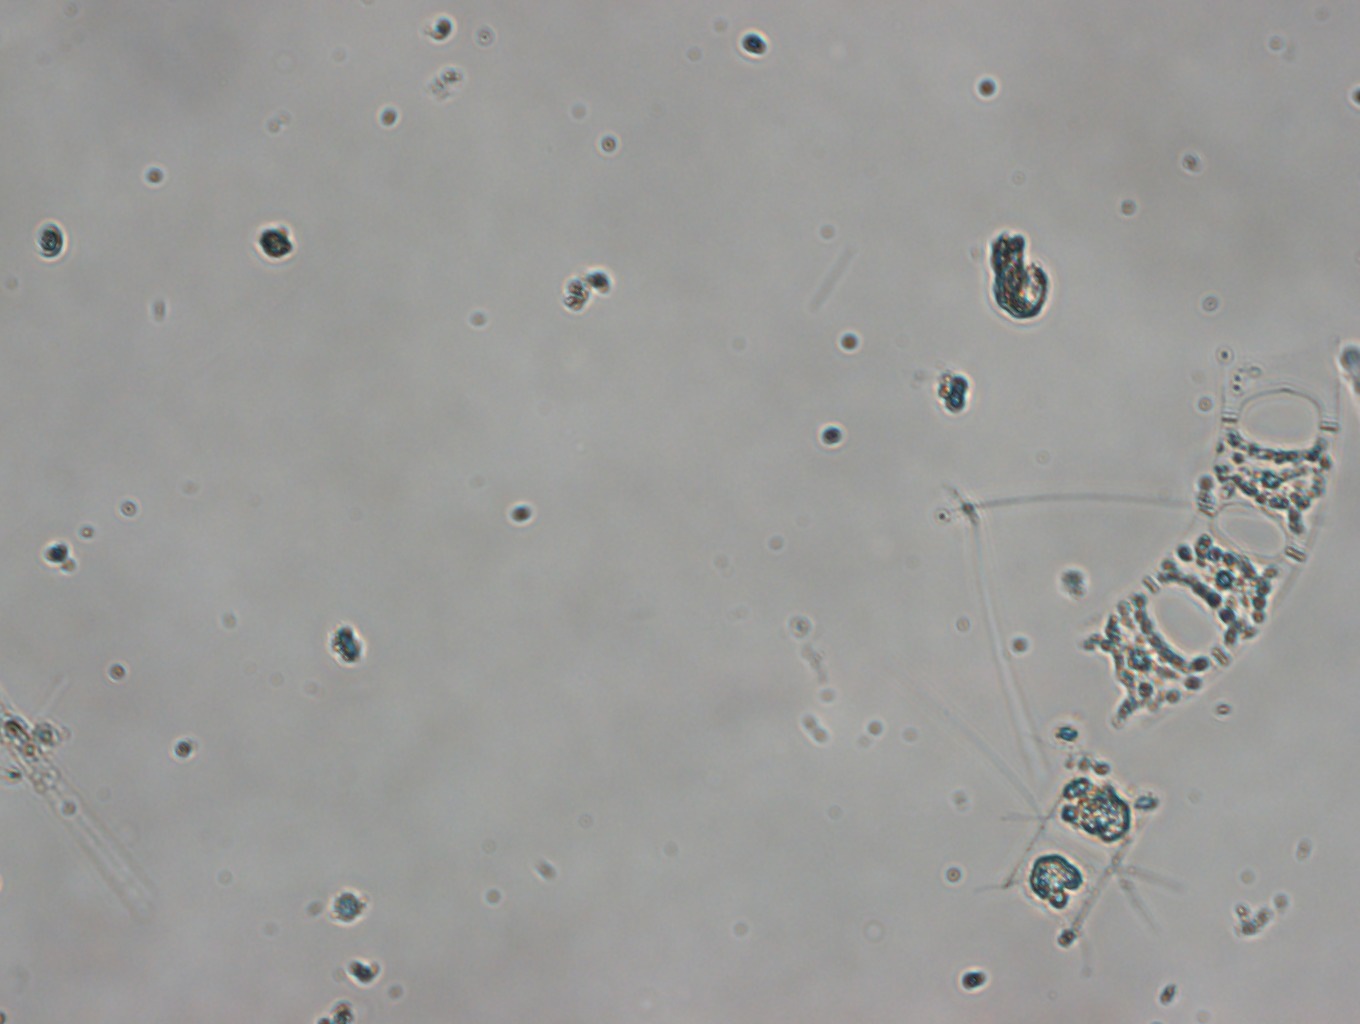chaetoceros: (1002, 744, 1192, 970)
eucampia: (1076, 371, 1343, 728)
